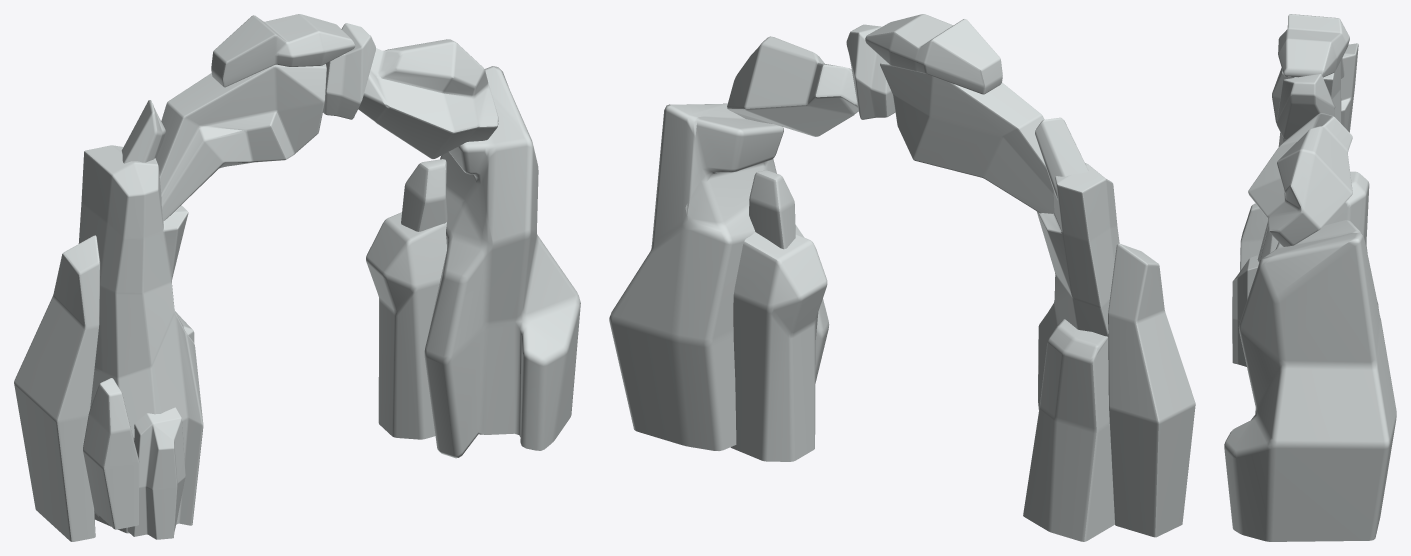
Rendered from gate.fbx.
The picture shows the model from 3 angles, left to right: view 1: azimuth 30°, elevation 25°; view 2: azimuth 150°, elevation 25°; view 3: azimuth 270°, elevation 25°; orthographic projection. The views are drawn at different scales.
Visible parts, largest first — view 1: gate; view 2: gate; view 3: gate.
Boxes of the visible parts, x1,y1,x2,y2 form: gate: [14, 14, 580, 541]; gate: [609, 14, 1195, 541]; gate: [1224, 14, 1396, 541].
Size of the model in its own units: 13575 by 11337 by 4245.
